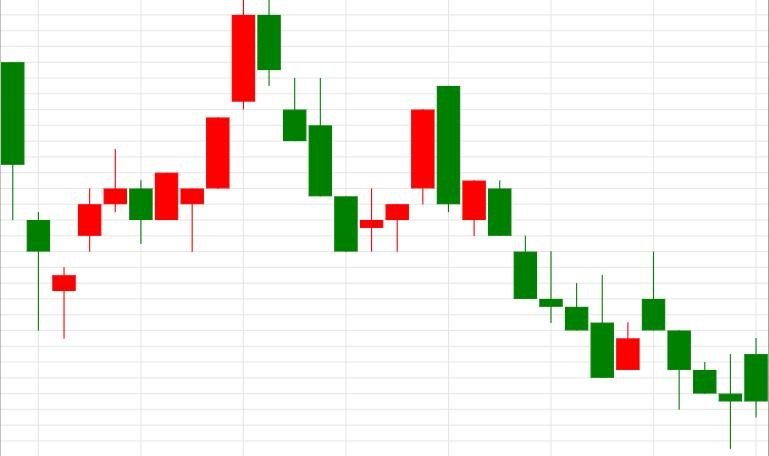bearish_engulfing_fall: (334, 86, 460, 252)
